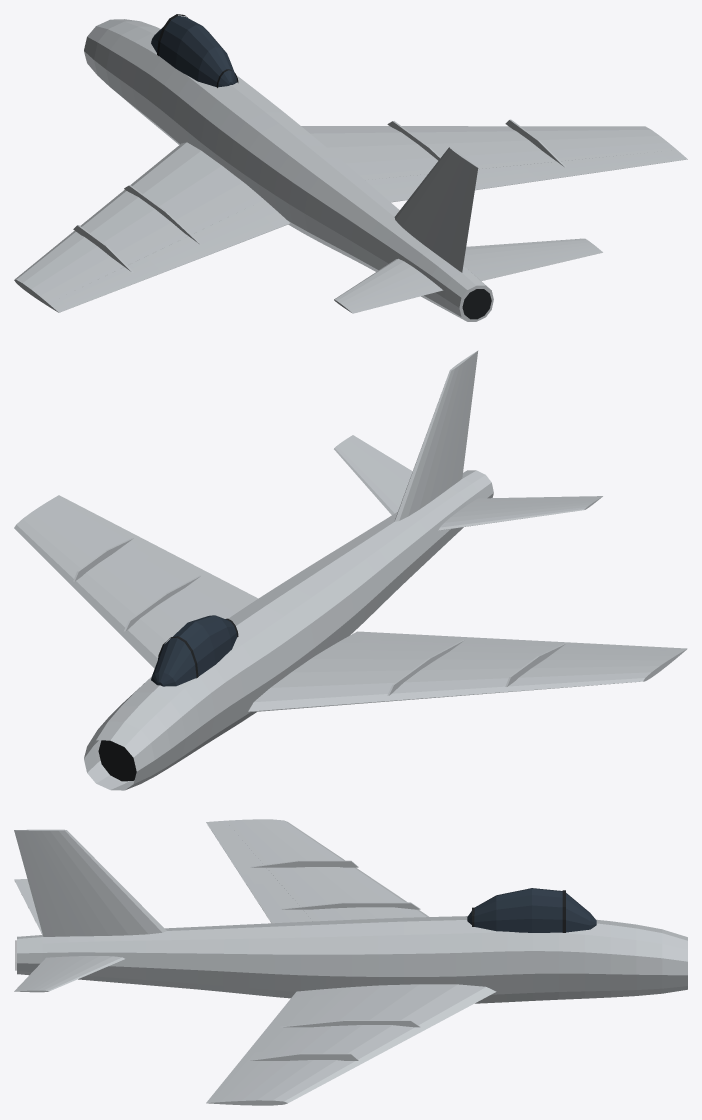
3 renders of one model, top to bottom at view 1: azimuth 30°, elevation 25°; view 2: azimuth 150°, elevation 25°; view 3: azimuth 270°, elevation 25°, orthographic. The views are drawn at different scales.
Parts seen in each view (by area): view 1: Fuselage, Wing L, Wing R, Vertical Fin, Cockpit Glass, Flap L, Rudder, Flap R, Stabilizer R, Stabilizer L, Aileron R, Elevator R (+3 smaller); view 2: Fuselage, Wing L, Wing R, Vertical Fin, Cockpit Glass, Flap L, Flap R, Stabilizer L, Stabilizer R, Rudder, Aileron R, Intake (+3 smaller); view 3: Fuselage, Wing R, Wing L, Vertical Fin, Cockpit Glass, Rudder, Flap R, Flap L, Stabilizer R, Aileron L, Aileron R, Elevator R.
Part boxes in pixels (x1,y1,x2,y2): Fuselage: (84, 19, 493, 321); Wing L: (14, 142, 290, 312); Wing R: (301, 119, 687, 180); Vertical Fin: (394, 147, 468, 252); Cockpit Glass: (151, 16, 237, 87); Flap L: (146, 206, 276, 272); Rudder: (435, 160, 478, 272); Flap R: (365, 165, 538, 202); Stabilizer R: (463, 238, 596, 267); Stabilizer L: (334, 258, 426, 308); Aileron R: (546, 151, 671, 177); Elevator R: (467, 247, 602, 280); Fuselage: (84, 470, 493, 790); Wing L: (248, 631, 687, 711); Wing R: (14, 495, 235, 668); Vertical Fin: (394, 358, 468, 521); Cockpit Glass: (151, 615, 236, 686); Flap L: (352, 632, 538, 650); Flap R: (146, 549, 257, 612); Stabilizer L: (438, 500, 596, 530); Stabilizer R: (334, 439, 407, 514); Rudder: (440, 350, 478, 494); Aileron R: (59, 501, 146, 550); Intake: (98, 740, 136, 781); Fuselage: (17, 916, 687, 1003); Wing R: (206, 984, 496, 1105); Wing L: (206, 819, 428, 921); Vertical Fin: (33, 829, 166, 936); Cockpit Glass: (467, 888, 596, 932); Rudder: (14, 829, 88, 936); Flap R: (247, 994, 336, 1052); Flap L: (247, 882, 312, 923); Stabilizer R: (26, 956, 124, 992); Aileron L: (210, 827, 270, 874); Aileron R: (210, 1060, 267, 1097); Elevator R: (14, 956, 73, 991).
Bounding box in the file's own units: 11.3 × 3.2 × 11.45.
